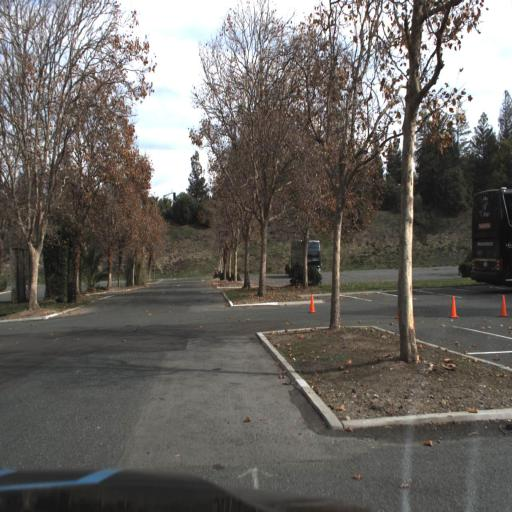truck: (290, 240, 322, 276)
